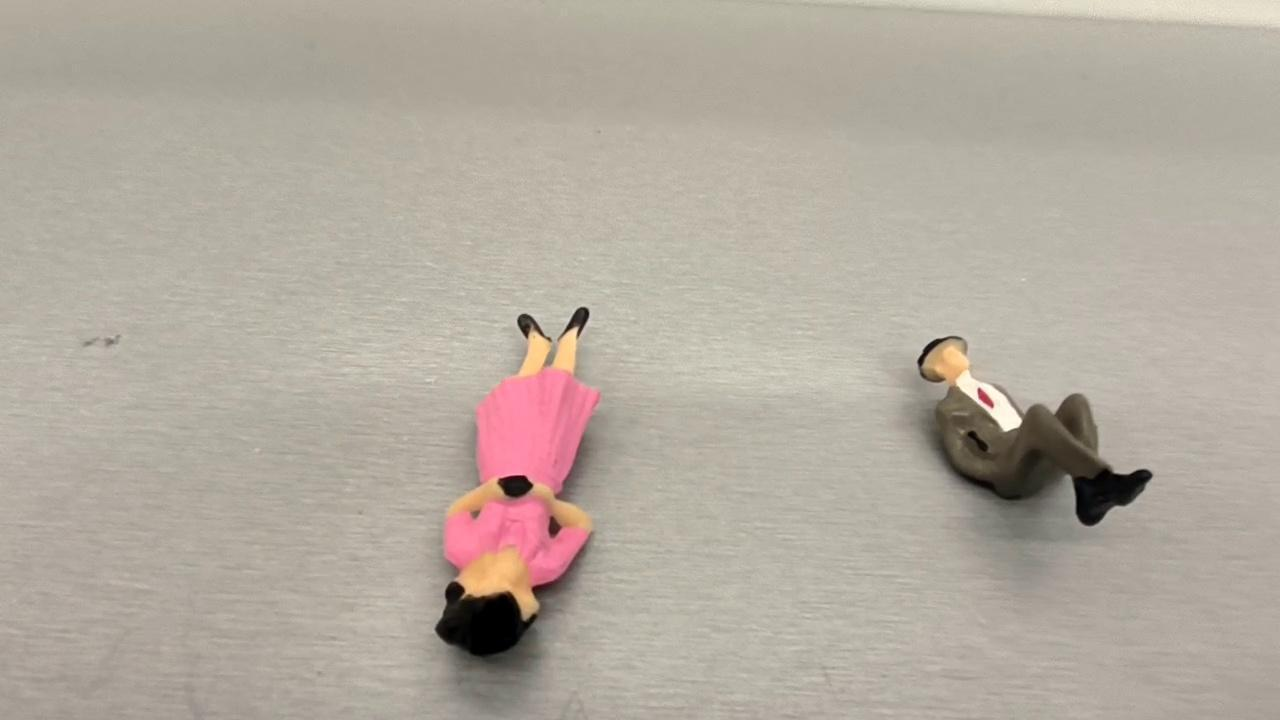human: (437, 300, 603, 664), (919, 332, 1154, 524)
